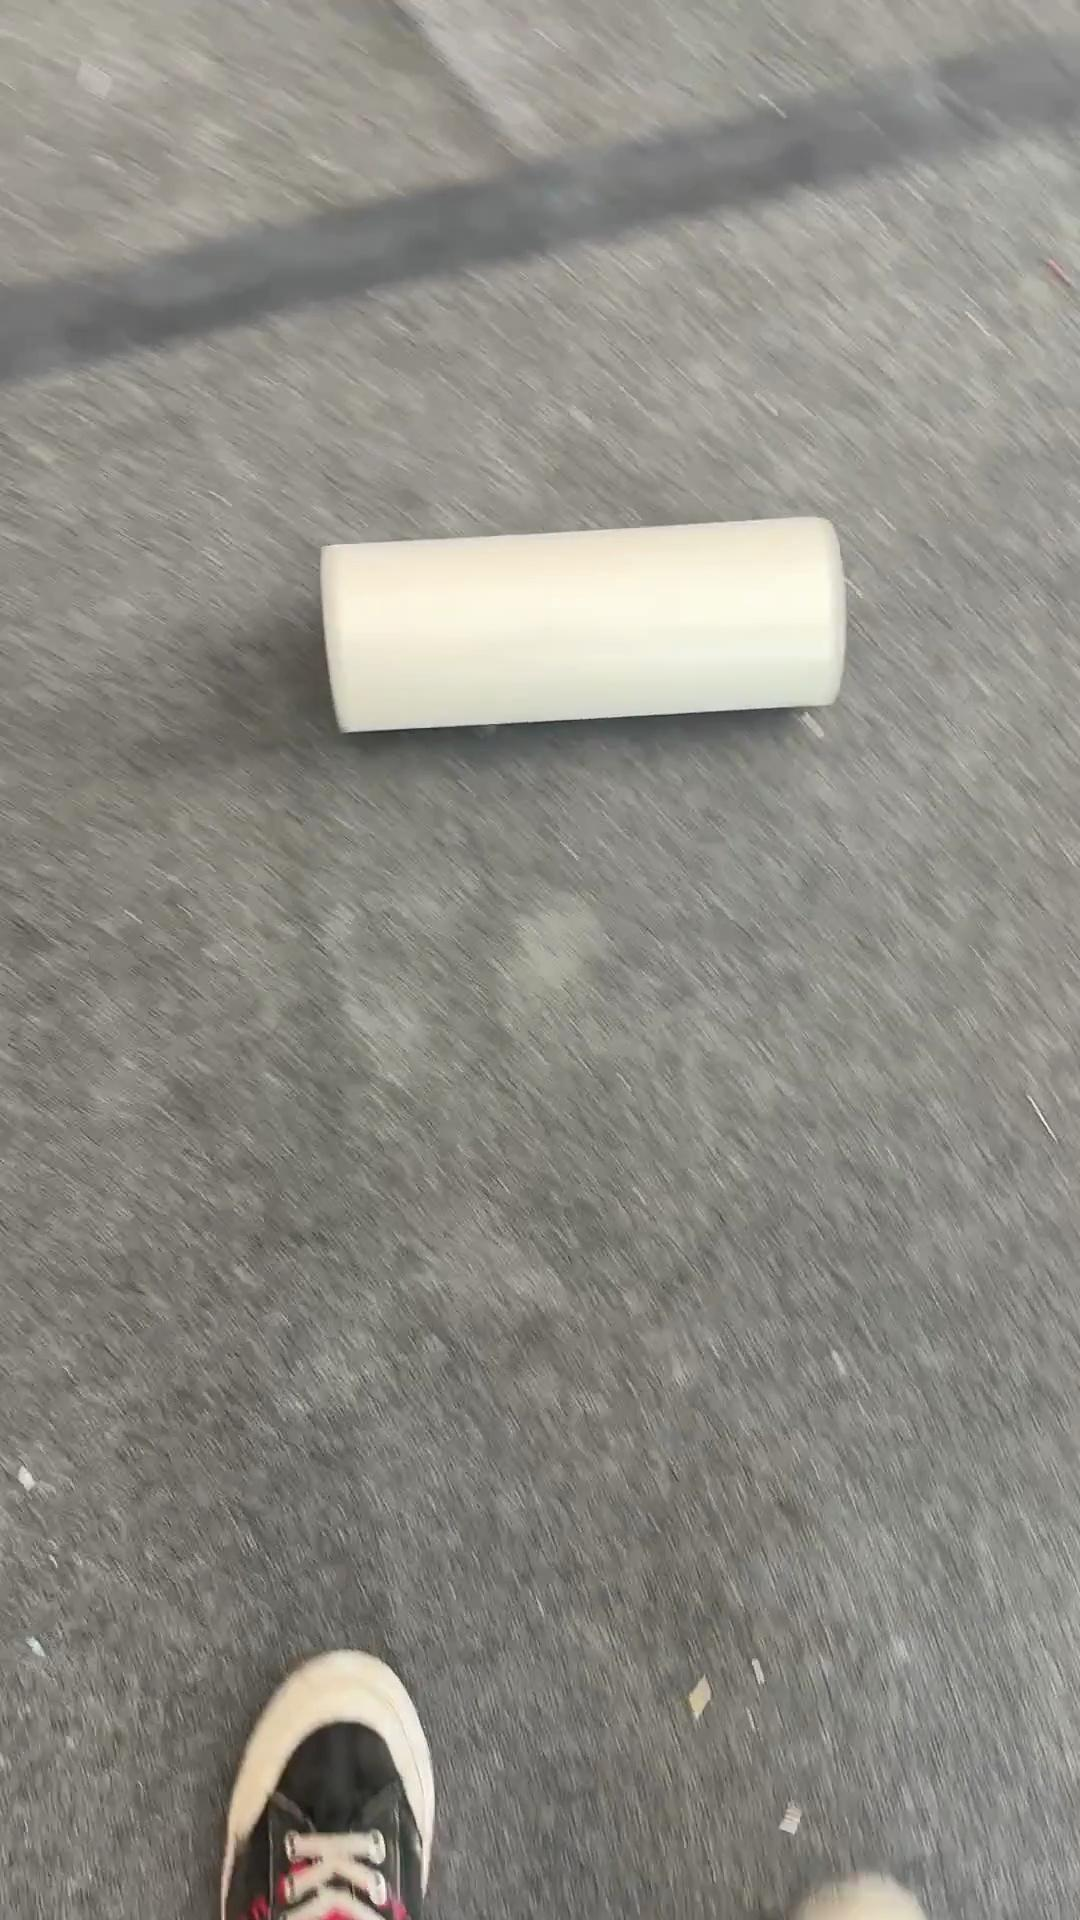CORAL: (317, 511, 847, 735)
